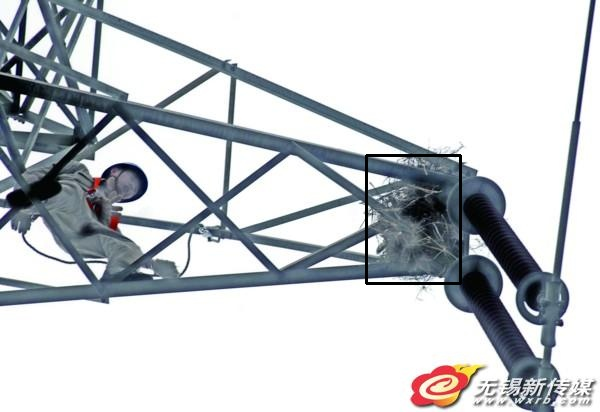bird-nest: (366, 155, 460, 283)
